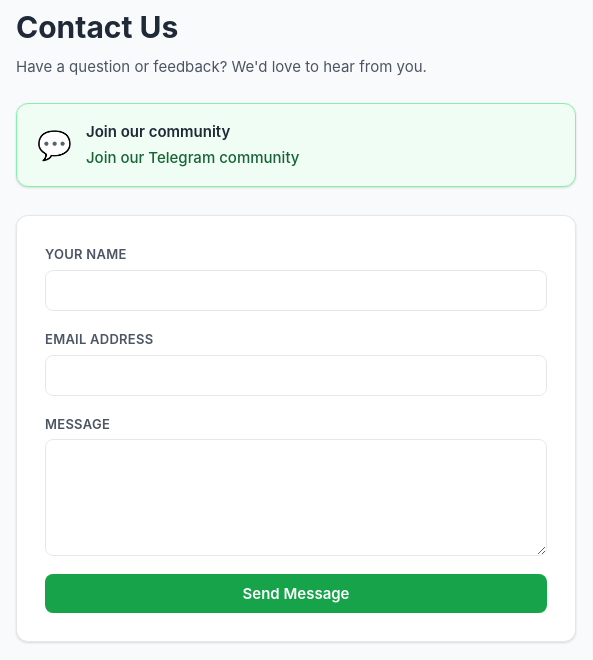
Test case: ContactPage › submits successfully and shows confirmation message
Type "John Doe" into the field labelled "Your name". click: {"x": 296, "y": 290}
box: [45, 270, 547, 311]
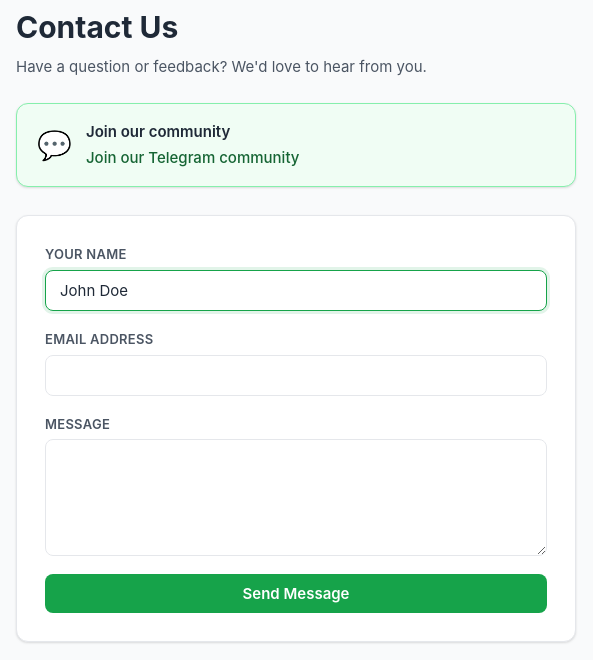
Type "john@example.com" into the field labelled "Email address". click: {"x": 296, "y": 375}
box: [45, 355, 547, 396]
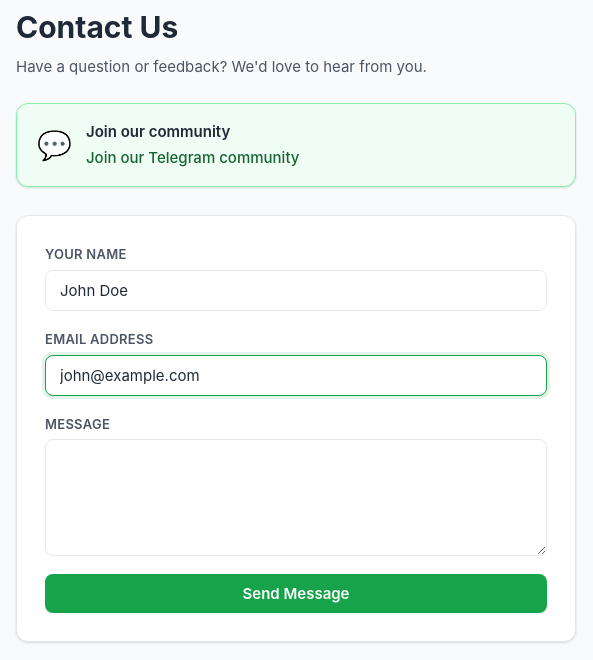
Type "Hello world!" into the text box labelled "Message". click: {"x": 296, "y": 498}
box: [45, 440, 547, 556]
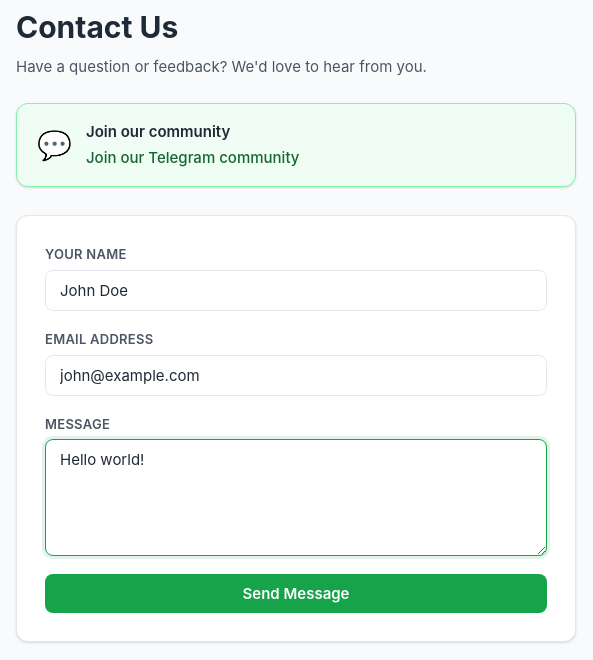
Click the button "Send Message". click: {"x": 296, "y": 594}
box: [45, 574, 547, 614]
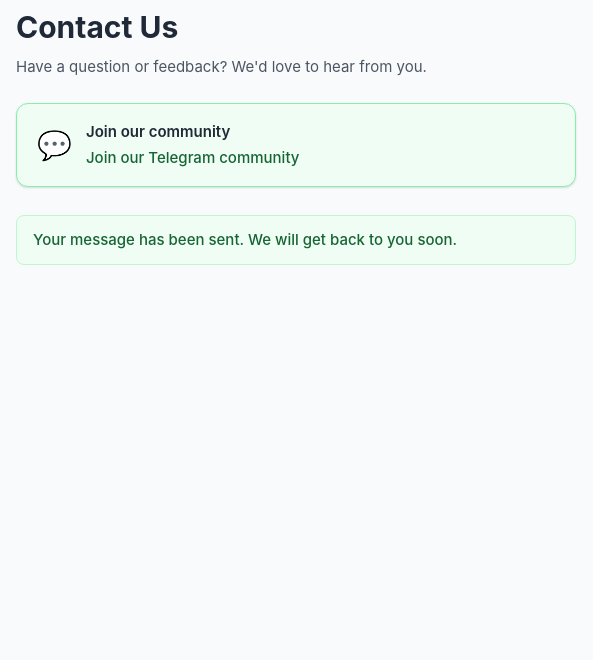
expect the text "Your message has been sent. We will get back to you soon." is shown: met, box [16, 215, 576, 265]
